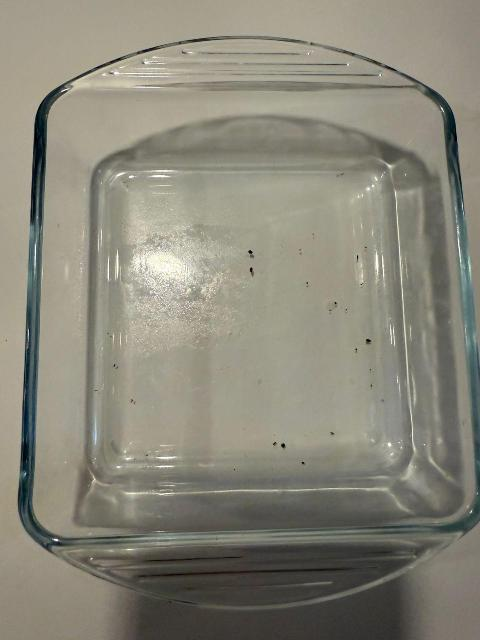Cam: (19, 32, 480, 617), (119, 136, 140, 149), (97, 153, 108, 160), (62, 481, 70, 490), (204, 108, 211, 116), (80, 261, 86, 270), (65, 337, 70, 346), (46, 495, 52, 501), (46, 440, 50, 448), (49, 465, 54, 471), (65, 430, 71, 433), (53, 336, 57, 340), (196, 113, 199, 118), (309, 284, 311, 290), (42, 330, 44, 336), (99, 139, 101, 145), (217, 97, 219, 103), (256, 269, 257, 276)
